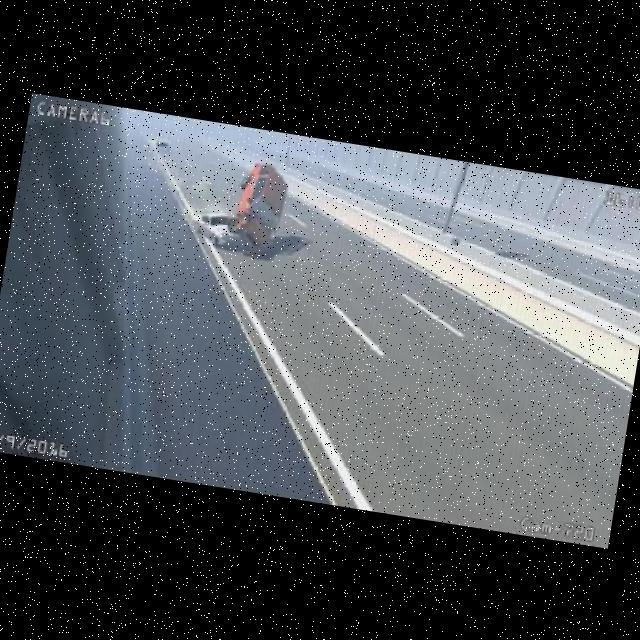accident: (199, 211, 277, 257)
